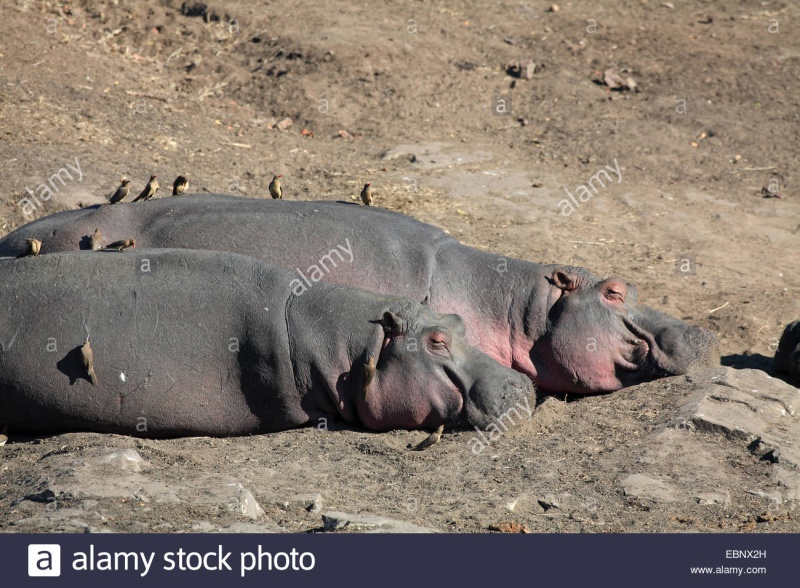hipopotamo: (100, 195, 716, 395), (0, 246, 537, 434)
